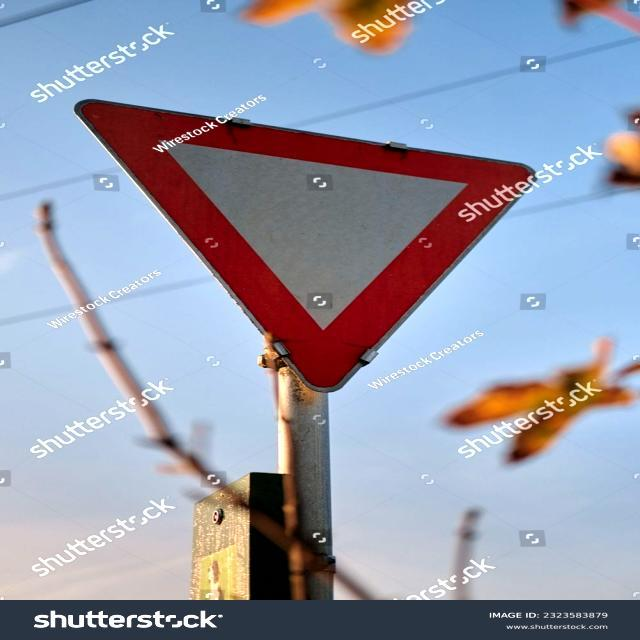Traffic sign: (67, 88, 546, 399)
